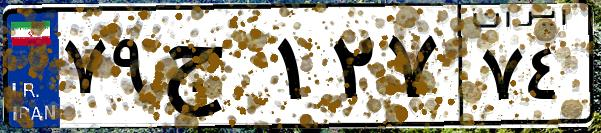1: (270, 28, 330, 110)
2: (330, 28, 385, 110)
4: (525, 38, 570, 115)
7: (385, 28, 445, 110), (57, 26, 110, 100), (475, 38, 525, 113)
9: (110, 28, 158, 98)
ج: (158, 20, 270, 120)
